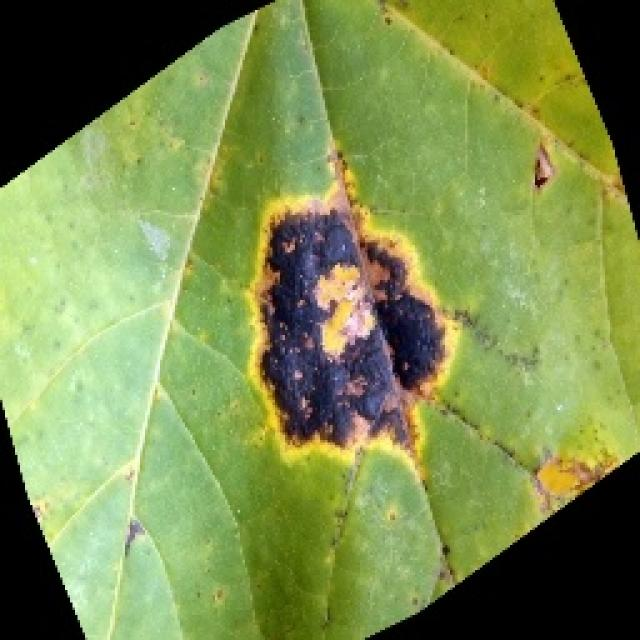Tar_Spot: (0, 0, 638, 638), (192, 91, 472, 476)
